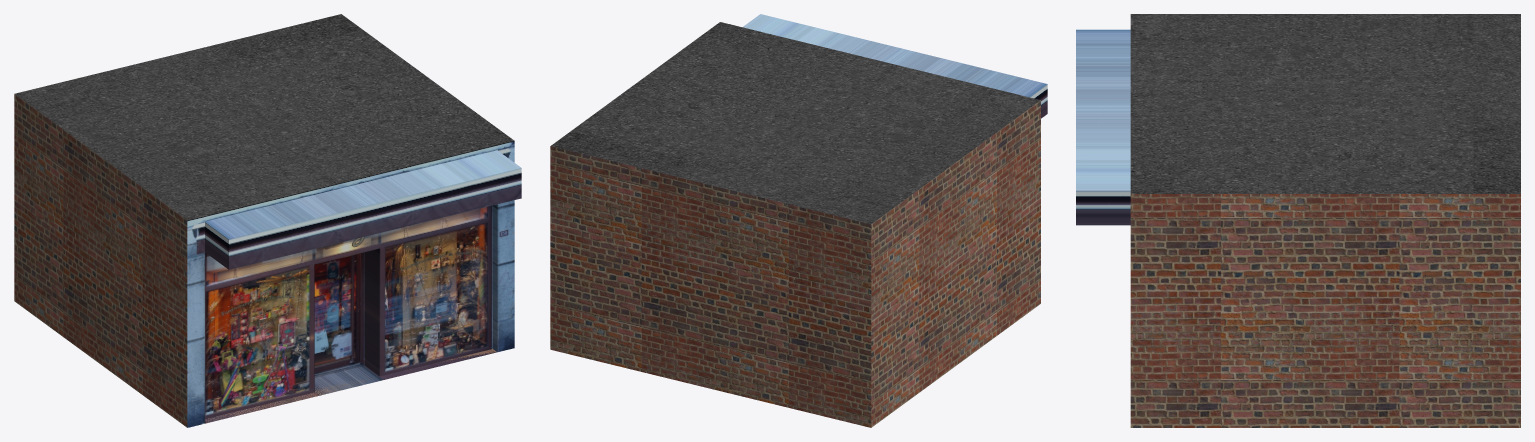
Rendered from STORE_01.fbx.
3 views of the same model, side by side, from view 1: azimuth 30°, elevation 25°; view 2: azimuth 150°, elevation 25°; view 3: azimuth 270°, elevation 25° (orthographic). The views are drawn at different scales.
Parts seen in each view (by area): view 1: STORE_01; view 2: STORE_01; view 3: STORE_01.
Part boxes in pixels (x1,y1,x2,y2): STORE_01: [14, 14, 521, 427]; STORE_01: [550, 14, 1047, 427]; STORE_01: [1076, 14, 1520, 427].
Bounding box in the file's own units: 781 × 473 × 815.
